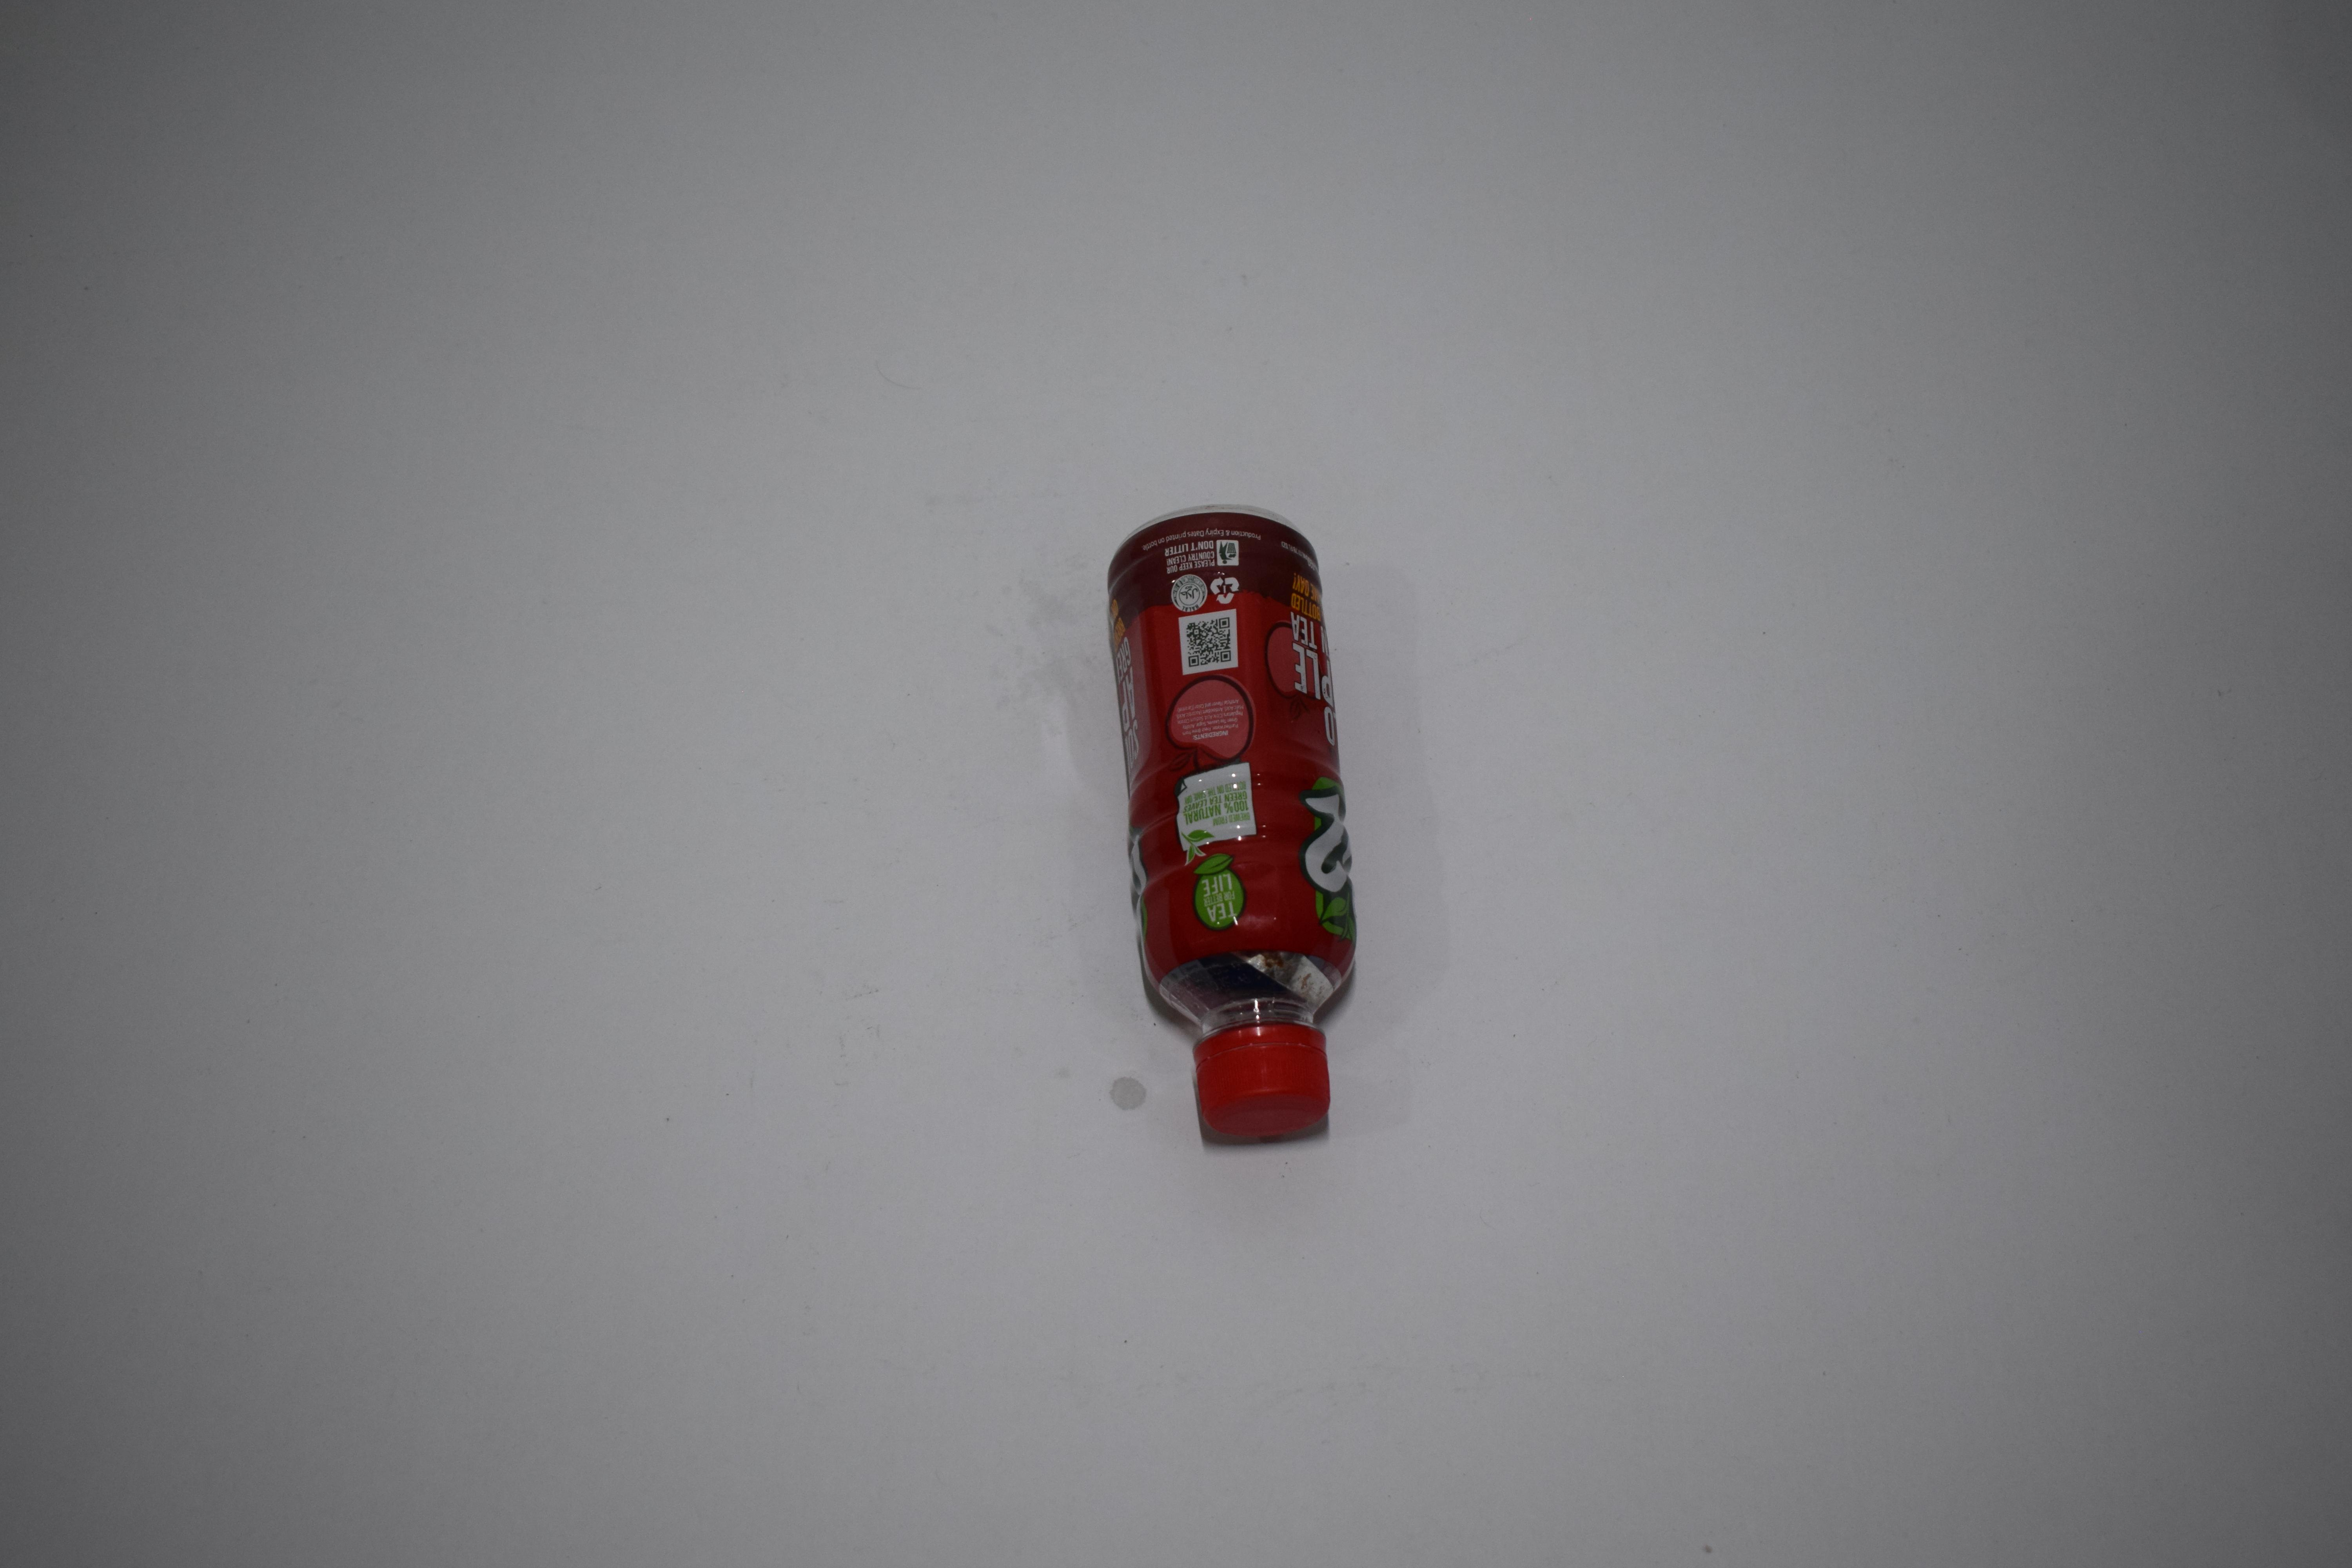bottle: (0, 0, 177, 364)
